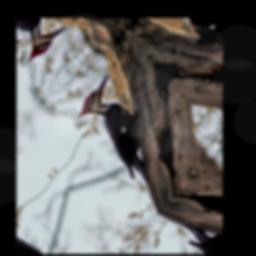Woodpecker: (73, 72, 178, 192)
